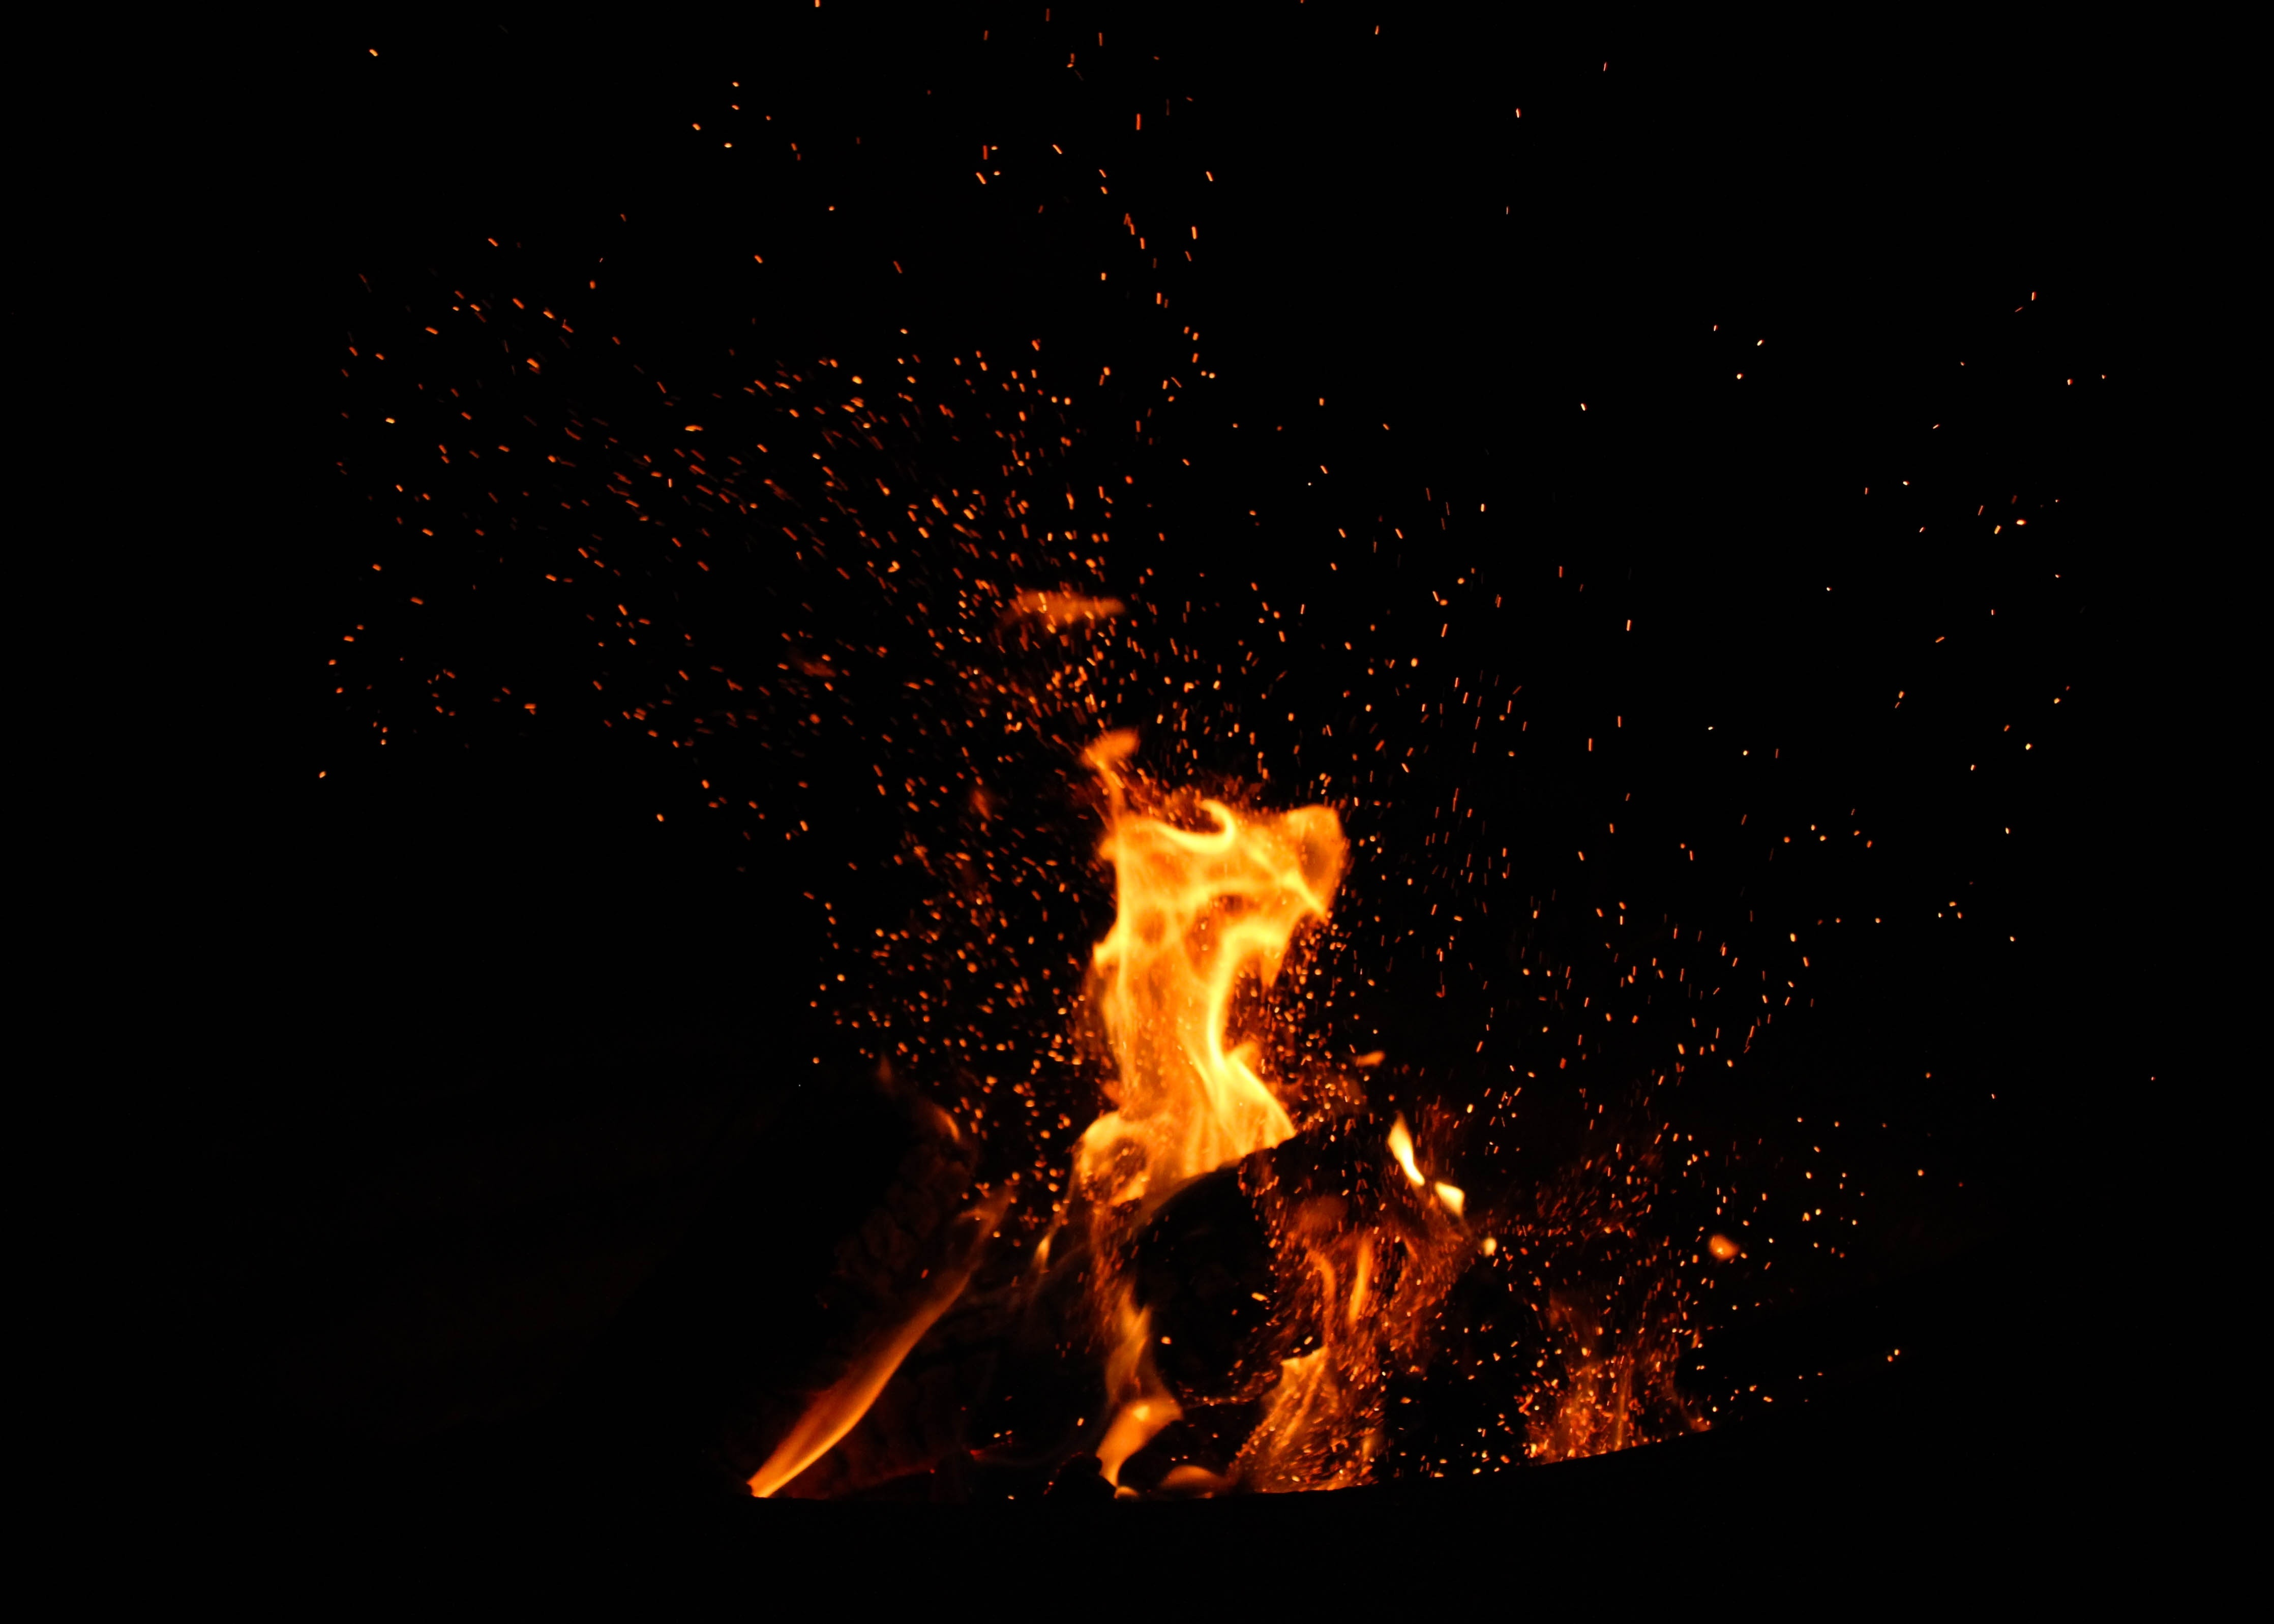fire: (750, 731, 1794, 1499)
